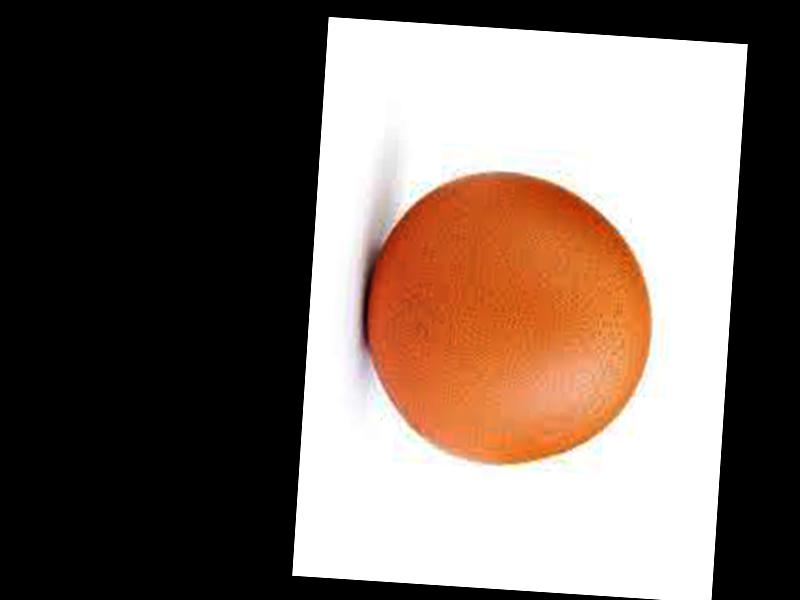Eggs: (359, 165, 656, 472)
